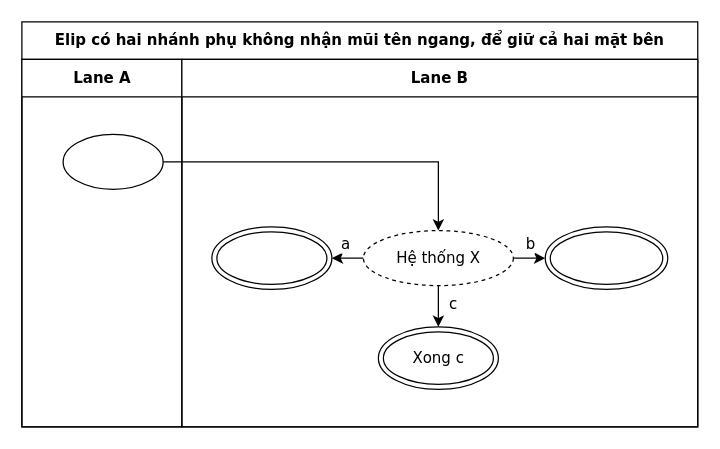
Image size: 720x449. Some labels were removed from this diagram. The centre of each missing label's shape, as x and y in pixels:
"Vào" belongs at point 112,161.
"Xong a" belongs at point 271,257.
"Xong b" belongs at point 606,257.
